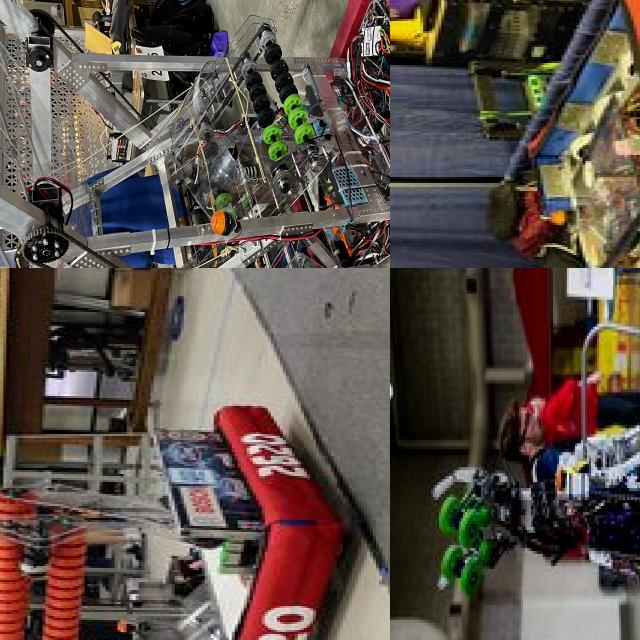FRC-Robots: (0, 0, 390, 268), (399, 282, 640, 640), (0, 386, 323, 640), (493, 0, 640, 268)
